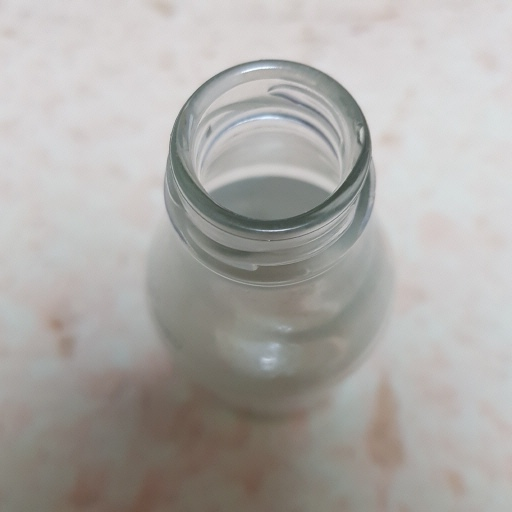Glass_4: (142, 55, 402, 420)
